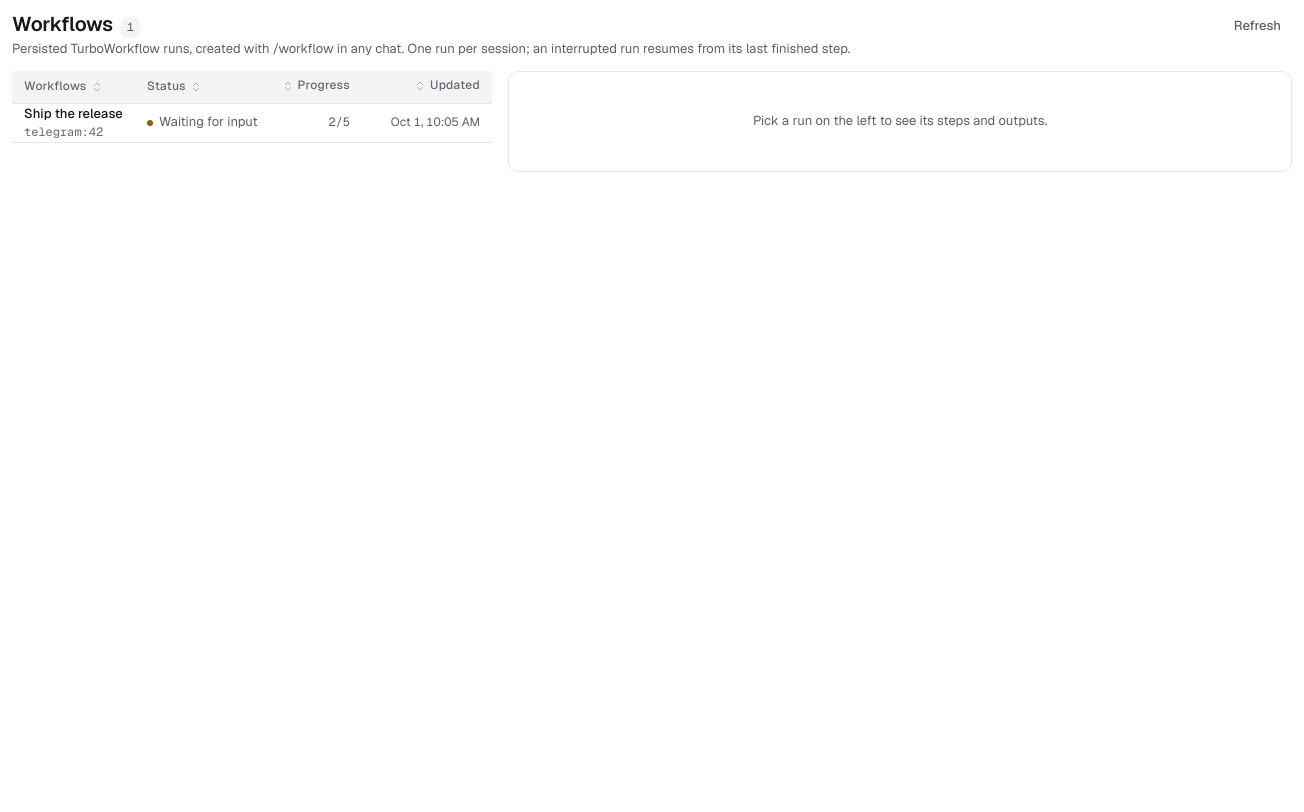
Test: Workflows › cancels a running workflow
The width and height of the screenshot is (1304, 812).
Click the text "Ship the release": (74, 114) x1=24 y1=105 x2=123 y2=124
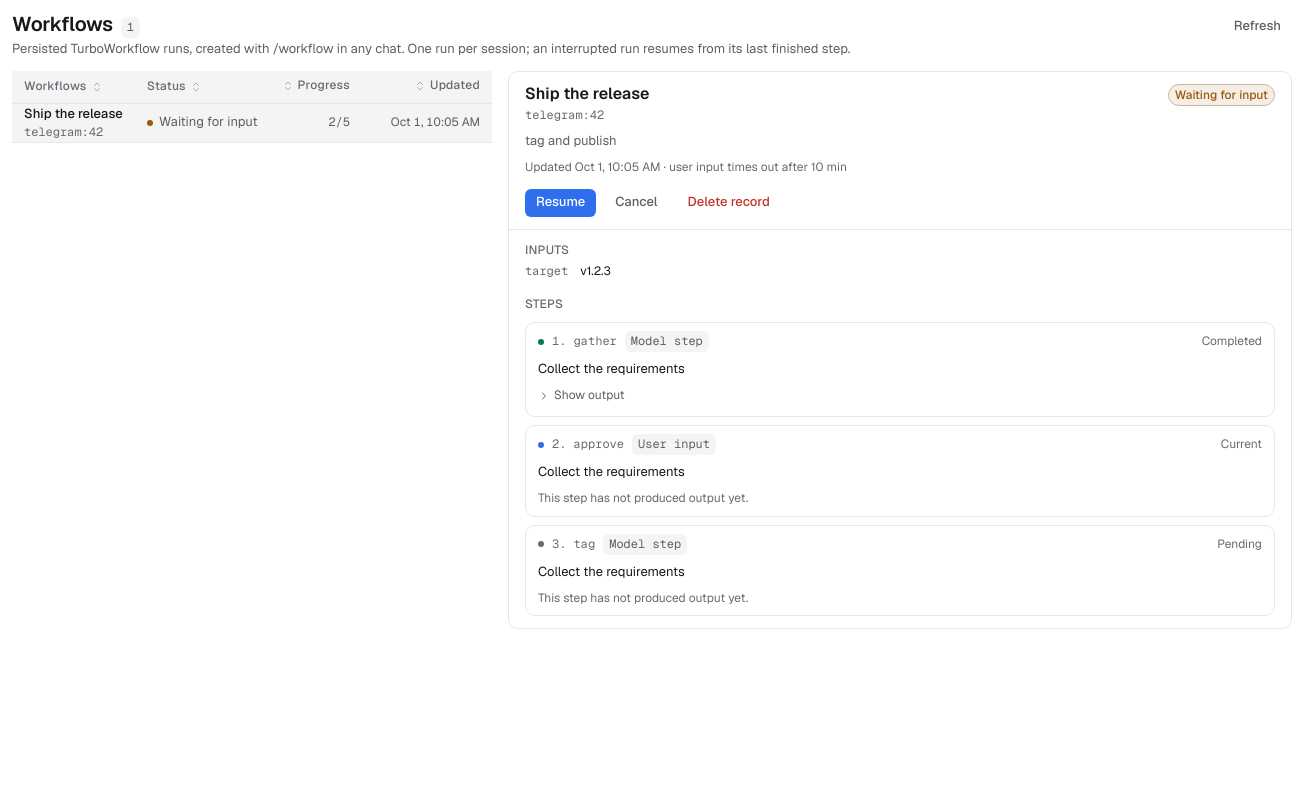
Click the button "Cancel": (636, 203) x1=604 y1=189 x2=668 y2=217
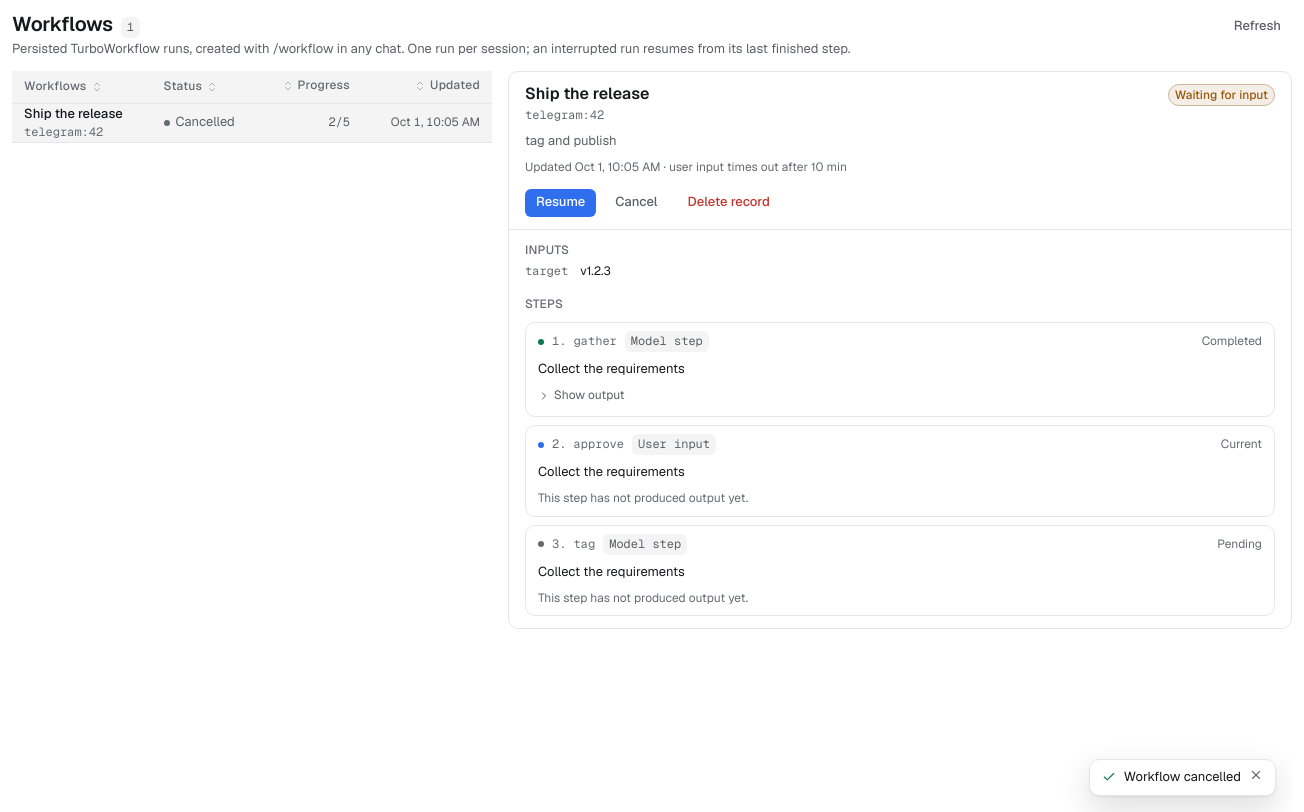
Check: the text "Cancelled" is shown, box x1=164 y1=113 x2=235 y2=130
